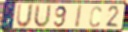2: (104, 5, 121, 30)
9: (53, 5, 66, 28)
C: (88, 6, 103, 29)
I: (74, 4, 83, 29)
U: (15, 3, 35, 29), (32, 4, 52, 29)
